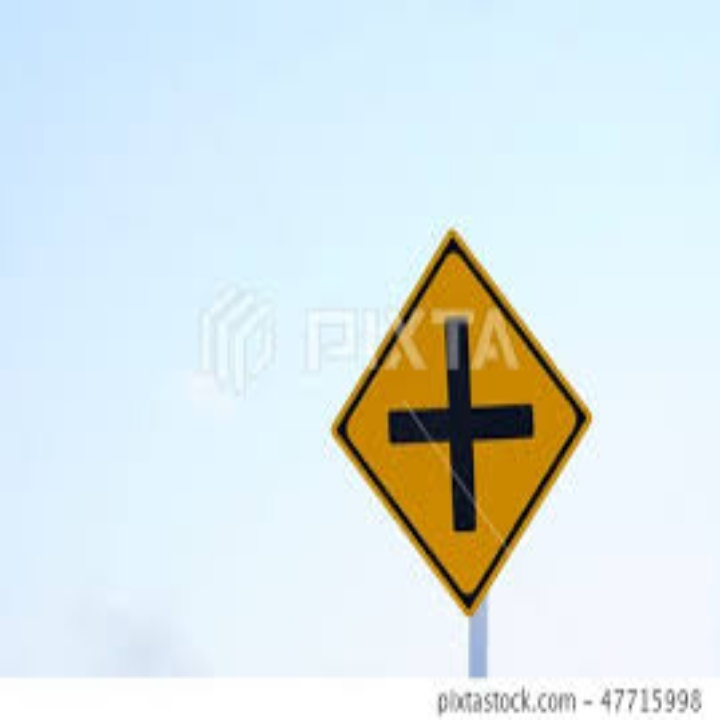inter: (382, 307, 546, 540)
